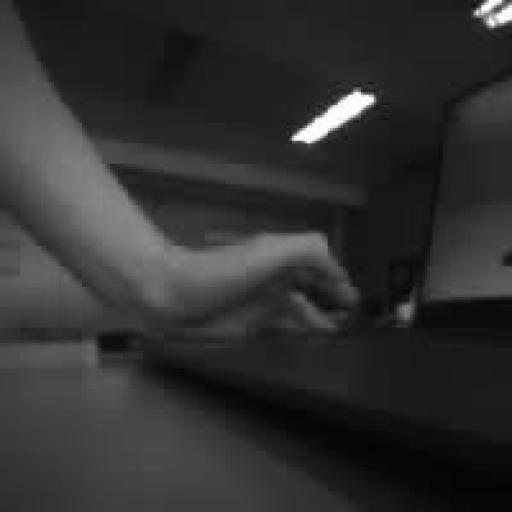human: (0, 0, 358, 332)
